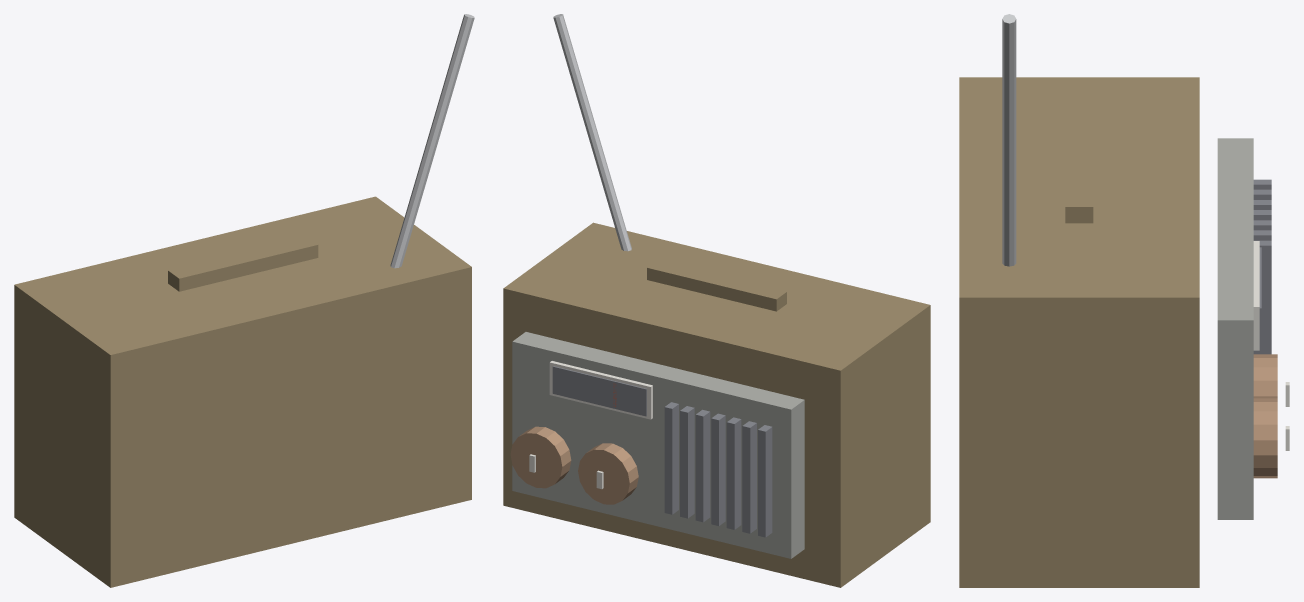
Rendered from old_radio.glb.
3 renders of one model, left to right at view 1: azimuth 30°, elevation 25°; view 2: azimuth 150°, elevation 25°; view 3: azimuth 270°, elevation 25°, orthographic. The views are drawn at different scales.
Visible parts, largest first — view 1: old_radio; view 2: old_radio; view 3: old_radio.
Part boxes in pixels (<box>): old_radio: <box>14,14,474,587</box>; old_radio: <box>503,14,930,587</box>; old_radio: <box>959,14,1289,587</box>.
Bounding box in the file's own units: 0.2759 × 0.3205 × 0.165.
